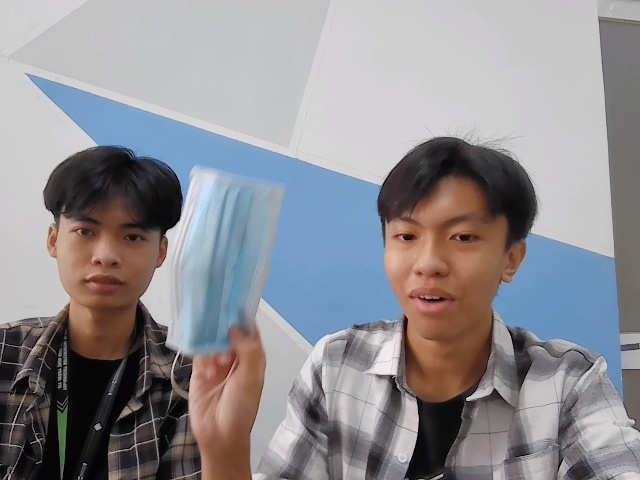human: (364, 130, 534, 339), (37, 140, 180, 316)
mask: (164, 160, 294, 355)
